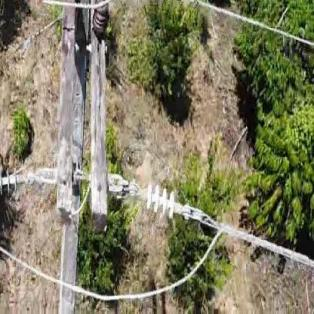Poste: (58, 0, 90, 314)
